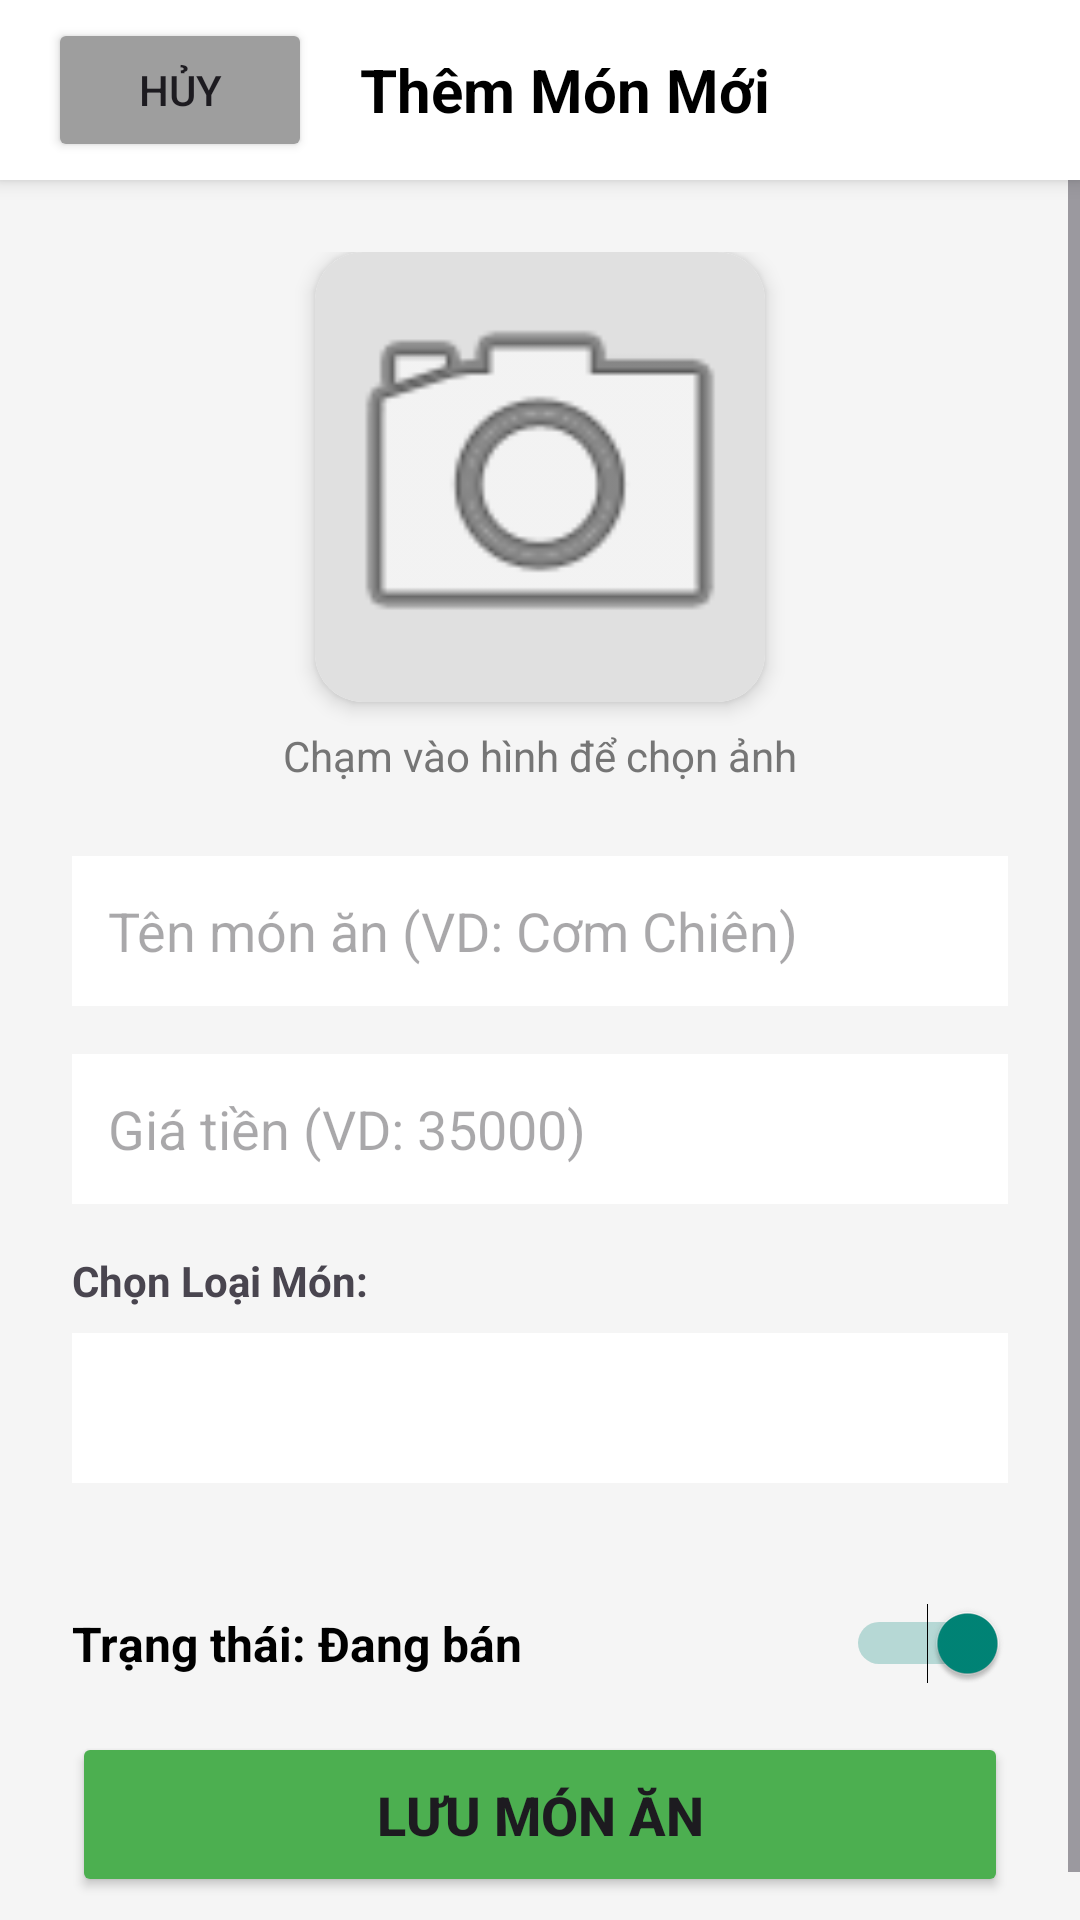

Icon click points for this 1080px x 1920px phone screenshot, format (x,y):
camera: (540,470)
